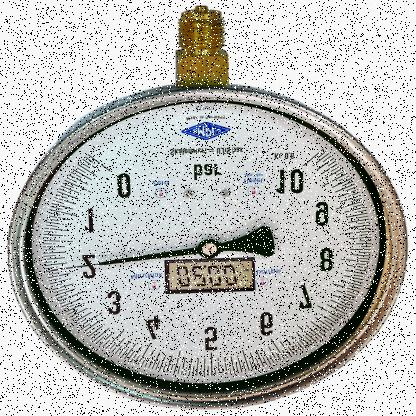needle: (49, 247, 198, 272)
